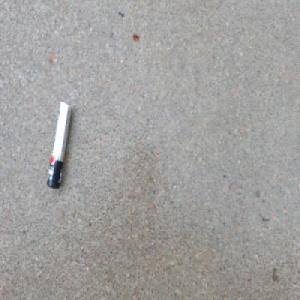Battery: (46, 99, 73, 191)
